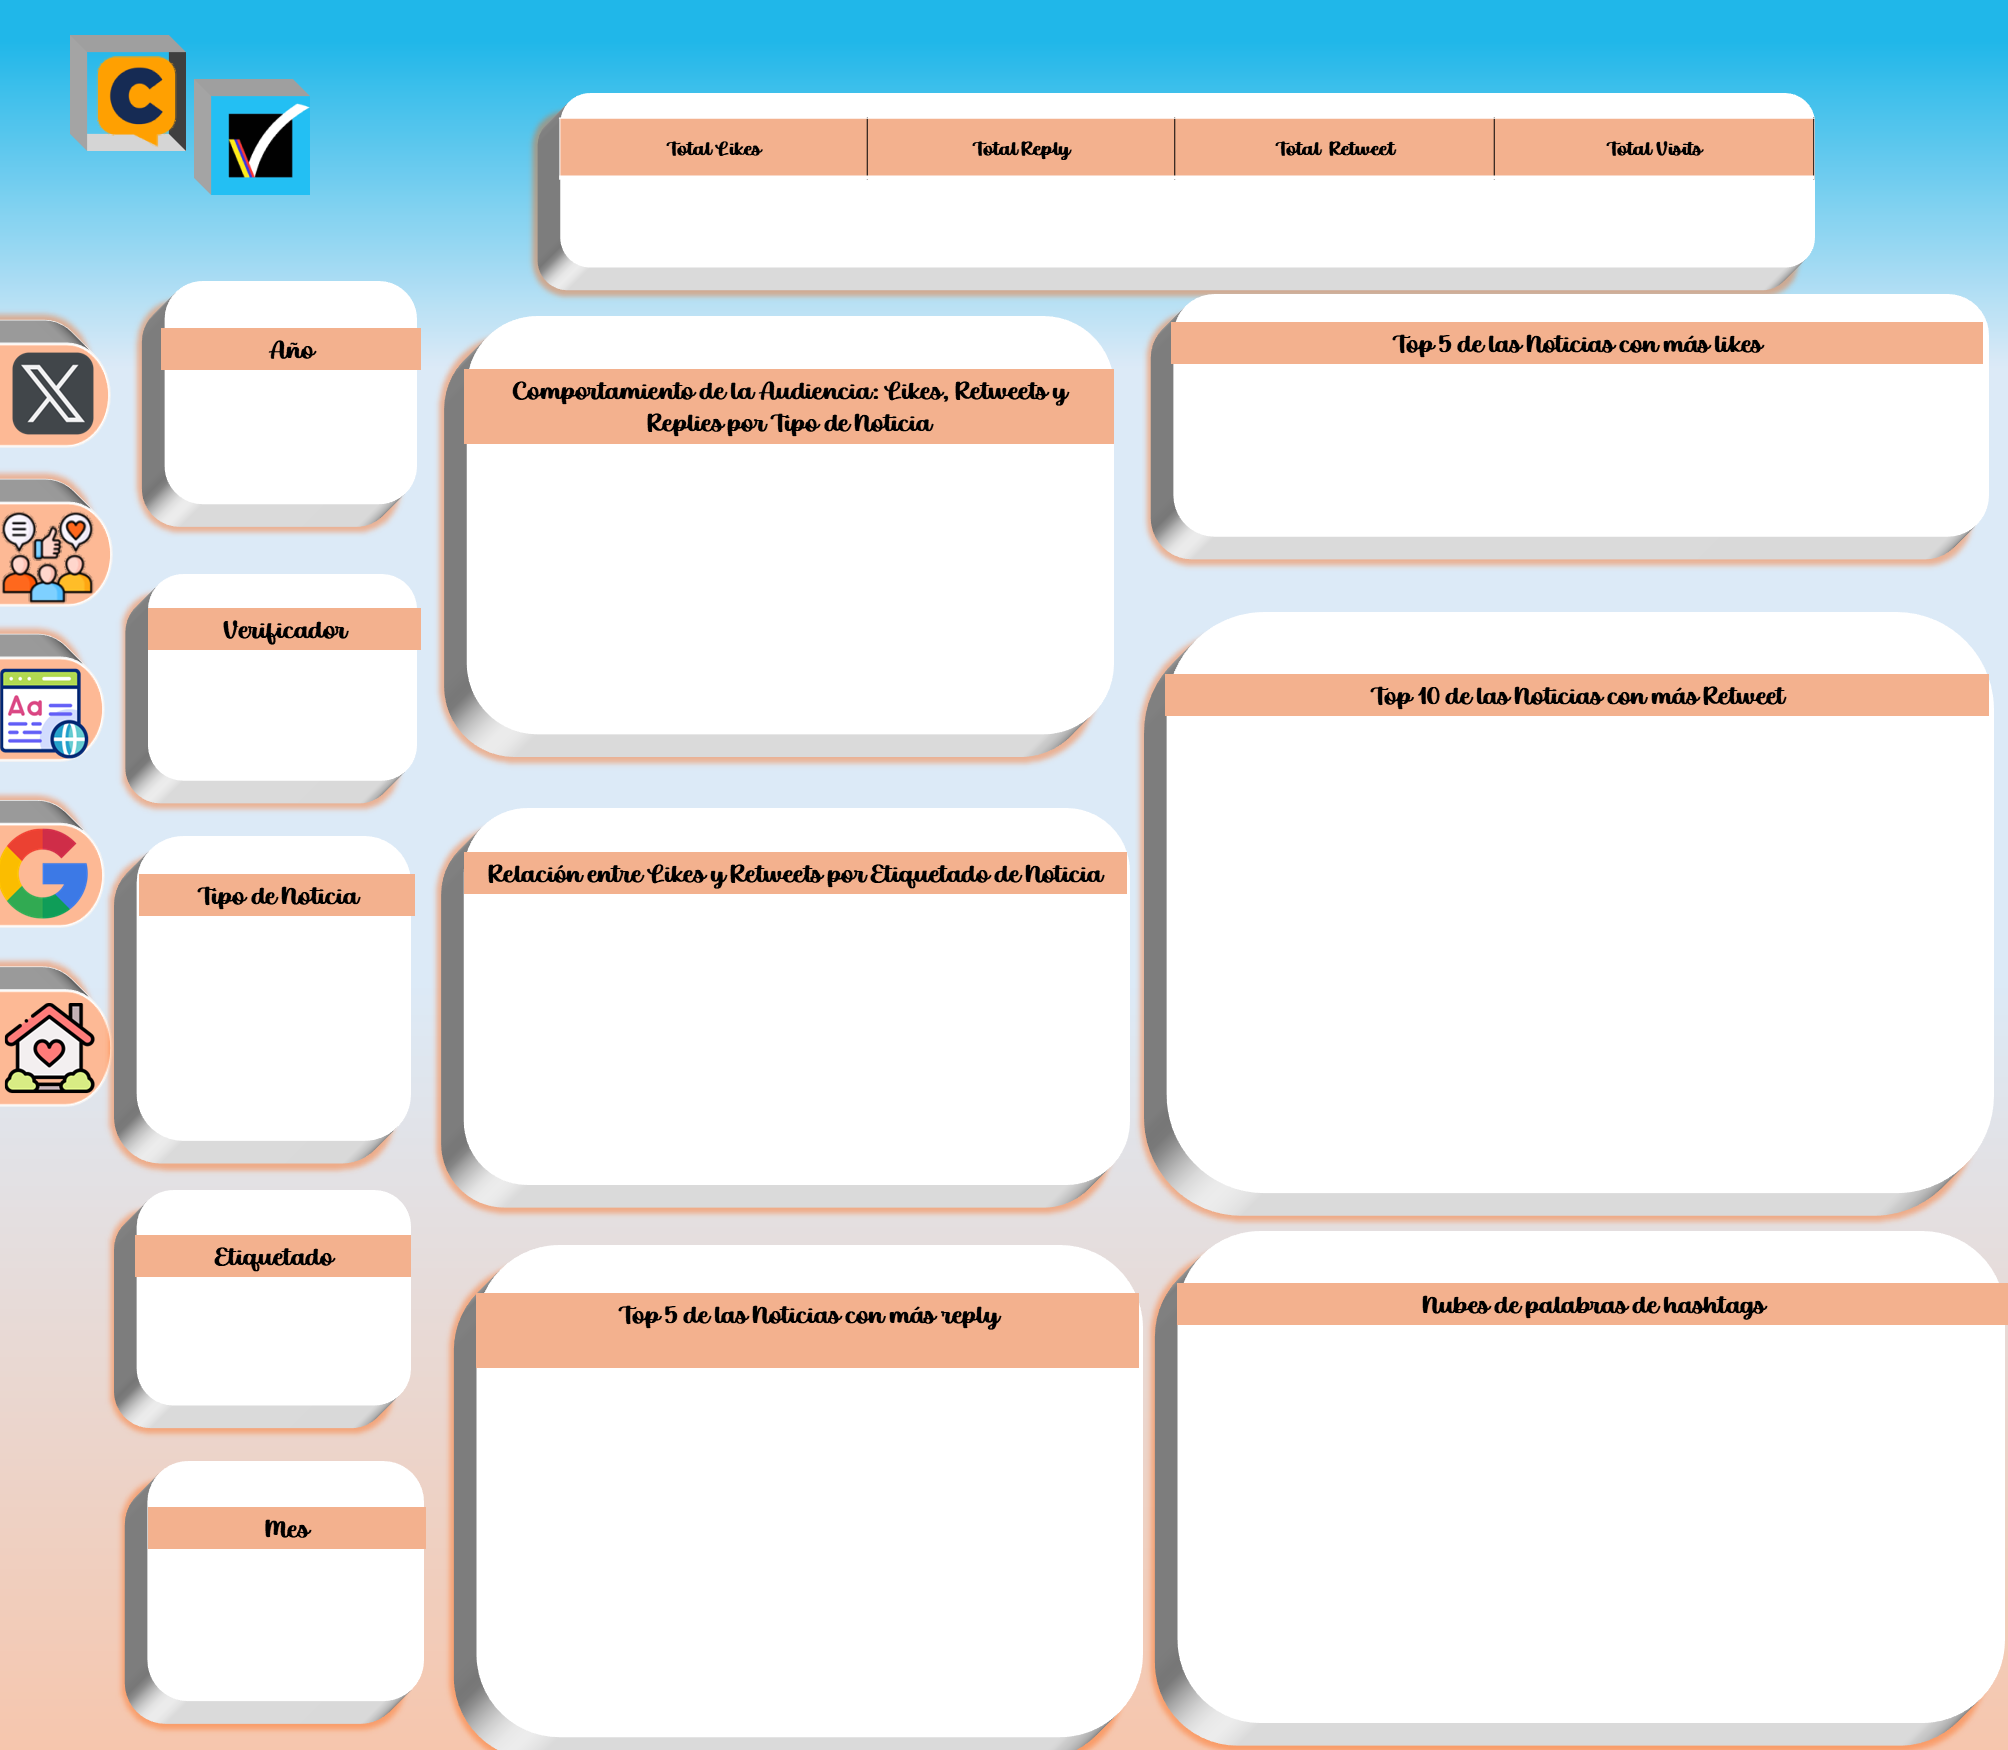

What the dashboard file says about the page in this screenshot:
{"tool":"powerbi","page":{"name":"Interacción Red Social X","canvas":[2008,1750],"ordinal":1},"visuals":[{"type":"shape","box":[83,485.1,217,27.7],"z":0},{"type":"slicer","title":"Mes","fields":{"Values":["fact_noticias.Nombre del mes"]},"box":[80,1332,224,282],"z":500},{"type":"slicer","title":"Verificador","fields":{"Values":["dim_verificador.nombre"]},"box":[83,485.1,208.5,121.3],"z":1000},{"type":"cardVisual","title":"Interacción de los usuarios en la Red Social X","fields":{"Data":["Tabla.Total Likes","Tabla.Total reply","Tabla.Total retweet","Tabla.Total visits"]},"box":[301.7,6.9,1706.9,158.6],"z":2000},{"type":"slicer","title":"Etiquetado","fields":{"Values":["dim_etiquetado.nombre"]},"box":[87.2,1002.1,204.3,278.7],"z":3000},{"type":"slicer","title":"Tipo de Noticias","fields":{"Values":["dim_tipo_noticia.nombre"]},"box":[78.7,691.5,204.3,229.8],"z":4000},{"type":"clusteredColumnChart","fields":{"Category":["dim_tipo_noticia.nombre"],"Y":["Tabla.Total Likes","Tabla.Total reply","Tabla.Total retweet","Tabla.Total visits"]},"box":[301.7,191.4,853.4,615.5],"z":5000},{"type":"slicer","title":"Año","fields":{"Values":["fact_noticias.Año"]},"box":[83,191.5,208.5,248.9],"z":6000},{"type":"scatterChart","title":"Total Likes y Total retweet","fields":{"X":["Tabla.Total Likes"],"Y":["Tabla.Total retweet"],"Category":["fact_noticias.titulo"],"Series":["dim_etiquetado.nombre"]},"box":[1184.6,192.3,812.8,615.4],"z":7000},{"type":"lineChart","fields":{"Category":["fact_noticias.Analizar"],"Y":["Tabla.Total Likes"],"Y2":["Tabla.Total visitsx"]},"box":[300,836,884,812],"z":8000},{"type":"treemapbarchart333E076637E345EDB9829C52846D5A31","fields":{"Axis":["dim_origen.nombre"],"Legend":["dim_tipo_noticia.nombre"],"Value":["Tabla.Total Likes"]},"box":[1184,836,814,812],"z":9000},{"type":"pivotTable","fields":{"Values":["Tabla.URL_Imagen_Verificador"]},"box":[98.3,0,184.5,151.7],"z":10000},{"type":"shape","box":[0,0,70.7,1750],"z":11000},{"type":"actionButton","box":[7,1.4,54.8,59],"z":12000},{"type":"actionButton","box":[0,87.9,70.3,82.1],"z":13000}]}

Visuals, with their boxes in screenshot pixels (x1, y1, x2, y2), scaled from the page's 2008x1750 canvas onto the 2008x1750 screenshot:
shape: [83, 485, 300, 513]
"Mes" slicer: [80, 1332, 304, 1614]
"Verificador" slicer: [83, 485, 292, 606]
"Interacción de los usuarios en la Red Social X" cardVisual: [302, 7, 2007, 166]
"Etiquetado" slicer: [87, 1002, 292, 1281]
"Tipo de Noticias" slicer: [79, 692, 283, 921]
clusteredColumnChart - dim_tipo_noticia.nombre x Tabla.Total Likes: [302, 191, 1155, 807]
"Año" slicer: [83, 192, 292, 440]
"Total Likes y Total retweet" scatterChart: [1185, 192, 1997, 808]
lineChart - fact_noticias.Analizar x Tabla.Total Likes: [300, 836, 1184, 1648]
treemapbarchart333E076637E345EDB9829C52846D5A31 - dim_origen.nombre x dim_tipo_noticia.nombre: [1184, 836, 1998, 1648]
pivotTable - Tabla.URL_Imagen_Verificador: [98, 0, 283, 152]
shape: [0, 0, 71, 1749]
actionButton: [7, 1, 62, 60]
actionButton: [0, 88, 70, 170]
